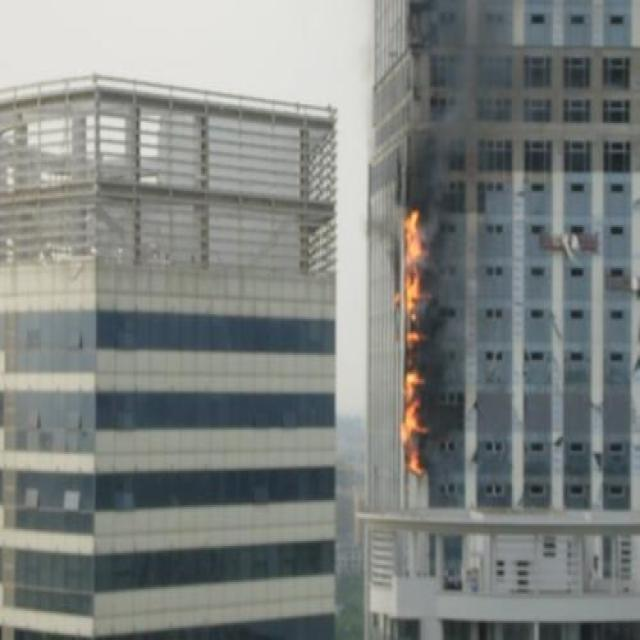Fire: (403, 210, 430, 478)
Smoke: (417, 2, 515, 276)
